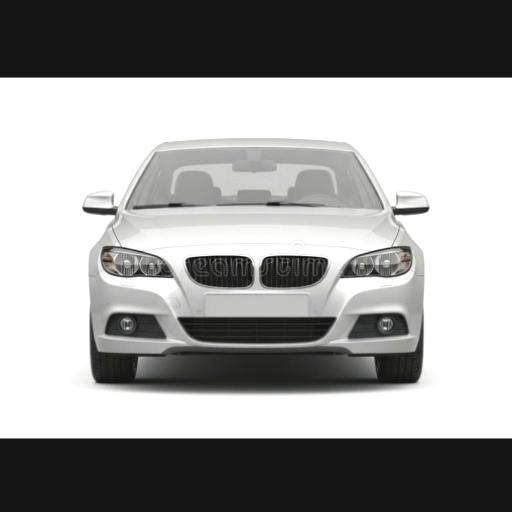sedan: (83, 138, 427, 380)
